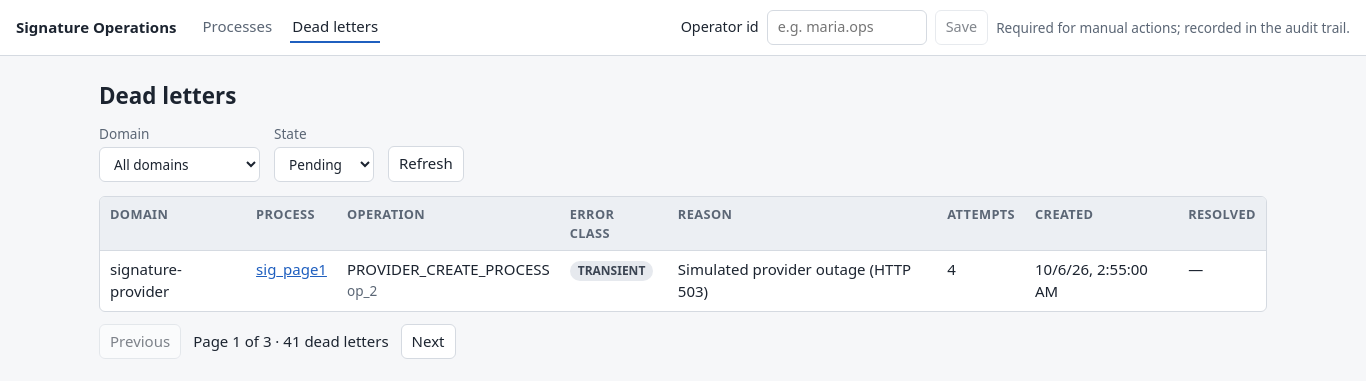
Test: dead letters page › paginates
The image size is (1366, 381).
Expected: the text "Page 1 of 3 · 41 dead letters" is shown, [193,331,389,352]
Click the button "Next": coordinates (428, 342) [401,324,456,360]
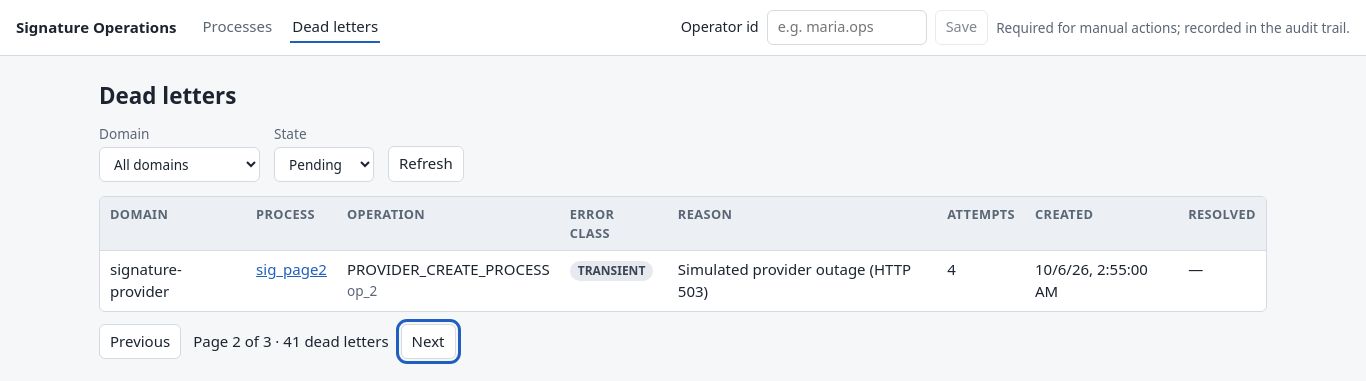
Expected: the link "sig_page2" is shown, [256,259,327,279]
